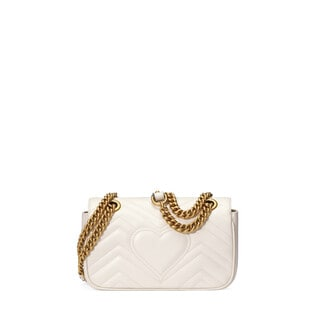Gucci: (64, 178, 241, 296), (103, 225, 229, 287)
